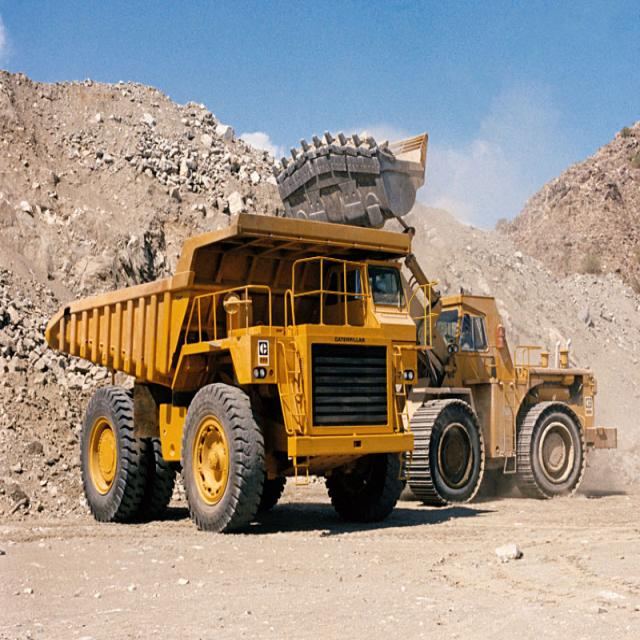buldozerpayloadergrader: (272, 117, 619, 513)
dump_truck: (43, 207, 407, 527)
